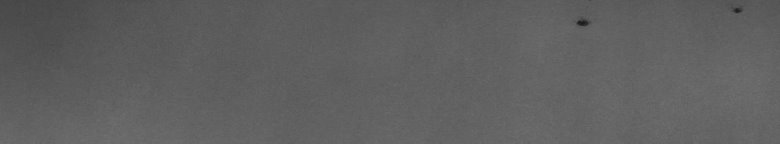fi: (728, 4, 744, 20)
